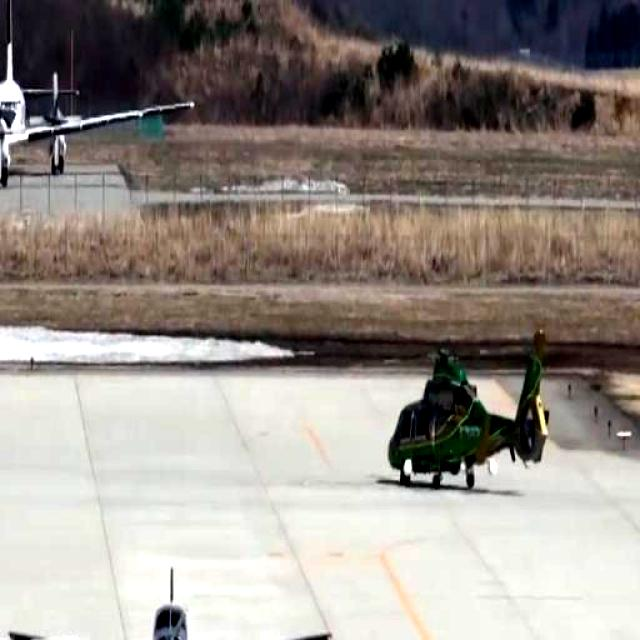0: (0, 0, 172, 188)
drone: (380, 336, 569, 508)
